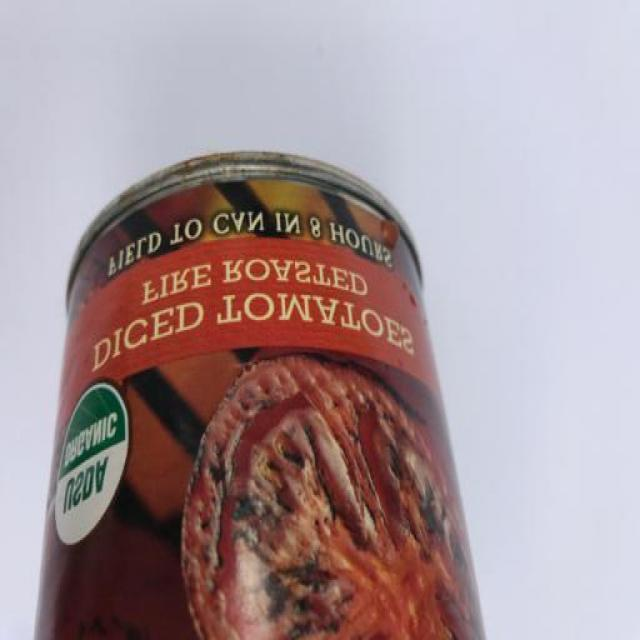metal: (29, 144, 492, 640)
